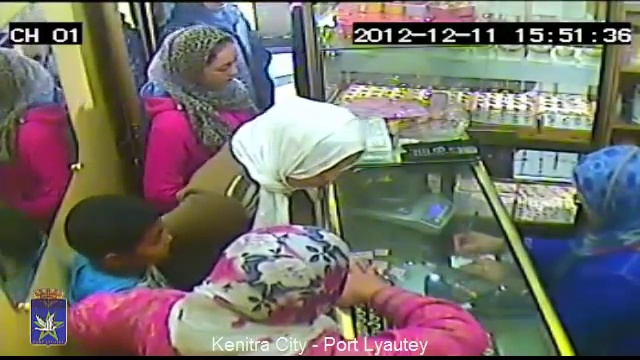face: (192, 36, 237, 87), (127, 219, 174, 266)
